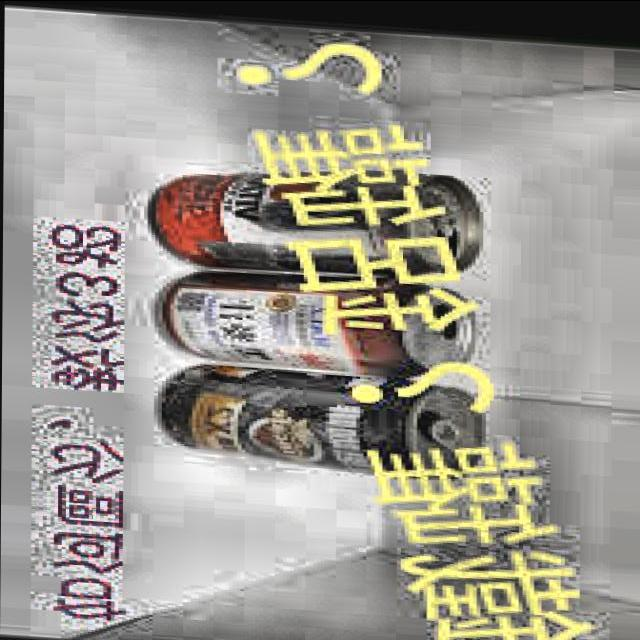Aluminum Can: (132, 146, 491, 278), (147, 354, 498, 482), (149, 256, 488, 380)
